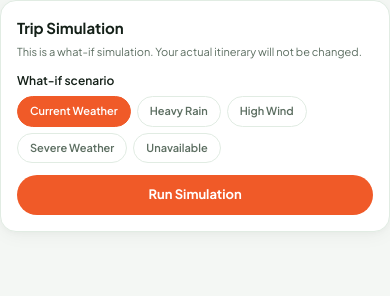
Test: SimulationCard › shows unavailable message for 502
The image size is (390, 296).
Click the button "Run Simulation" at point(195, 195), box [17, 175, 373, 214]
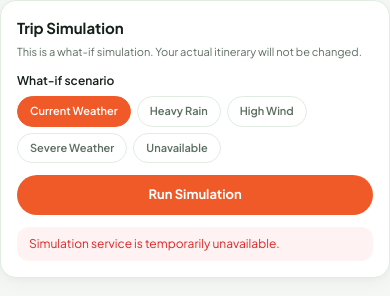
Result: the text "Simulation service is temporarily unavailable." is shown at [17, 226, 373, 260]
